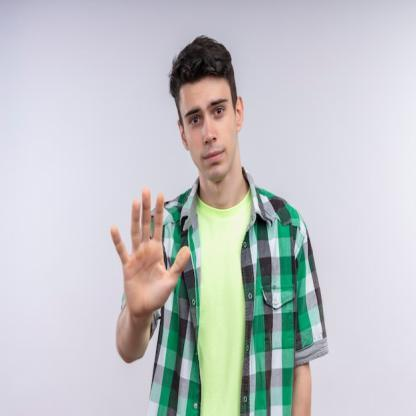stop: (108, 184, 192, 320)
